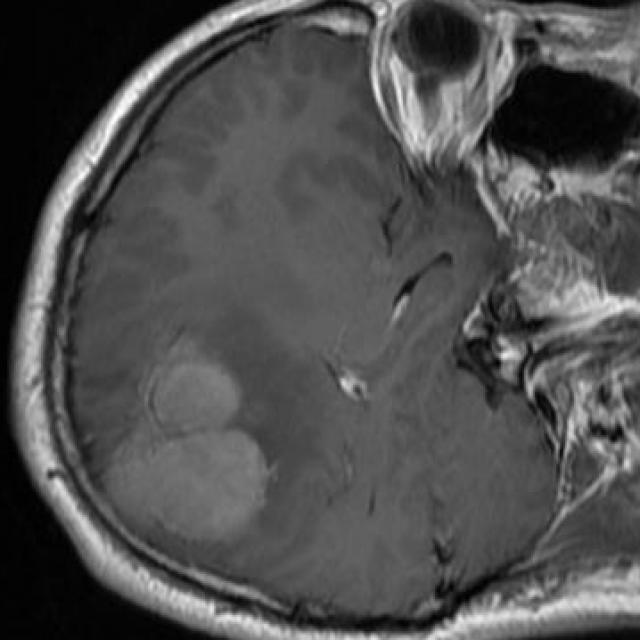meningioma: (107, 344, 267, 540)
